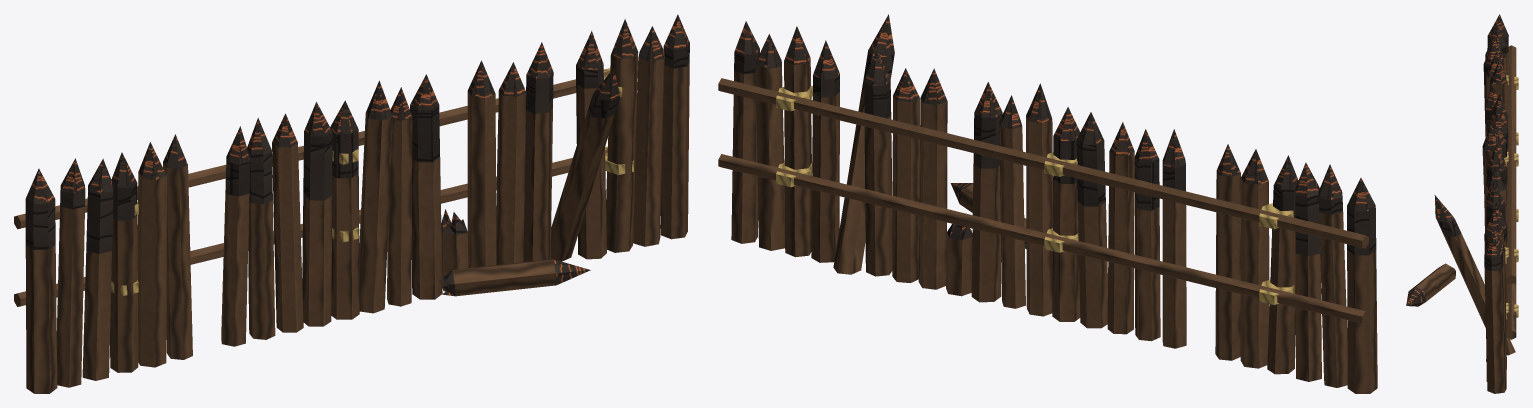
File: stake_fence.fbx
The picture shows the model from 3 angles, left to right: view 1: azimuth 30°, elevation 25°; view 2: azimuth 150°, elevation 25°; view 3: azimuth 270°, elevation 25°; orthographic projection. The views are drawn at different scales.
Parts seen in each view (by area): view 1: stake_fence_Stakes, stake_fence_Rails; view 2: stake_fence_Stakes, stake_fence_Rails; view 3: stake_fence_Stakes, stake_fence_Rails.
Part boxes in pixels (box(x1,y1,x2,y2)): stake_fence_Stakes: box(25, 14, 689, 393); stake_fence_Rails: box(14, 66, 637, 306); stake_fence_Stakes: box(731, 14, 1377, 393); stake_fence_Rails: box(718, 78, 1368, 324); stake_fence_Stakes: box(1406, 14, 1515, 393); stake_fence_Rails: box(1504, 45, 1518, 339).
Size of the model in its own units: 24 by 7.95 by 4.98.
1 material, 1 textured.
